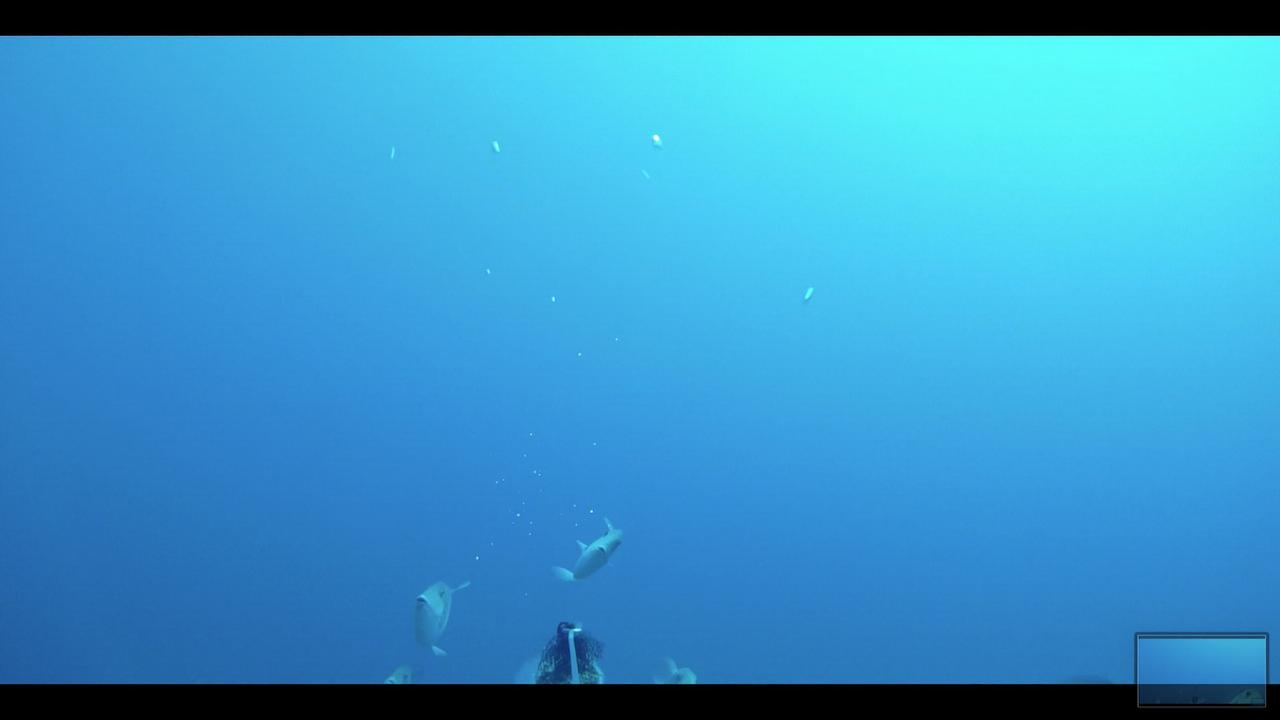balistes: (394, 570, 479, 652), (545, 512, 631, 578)
